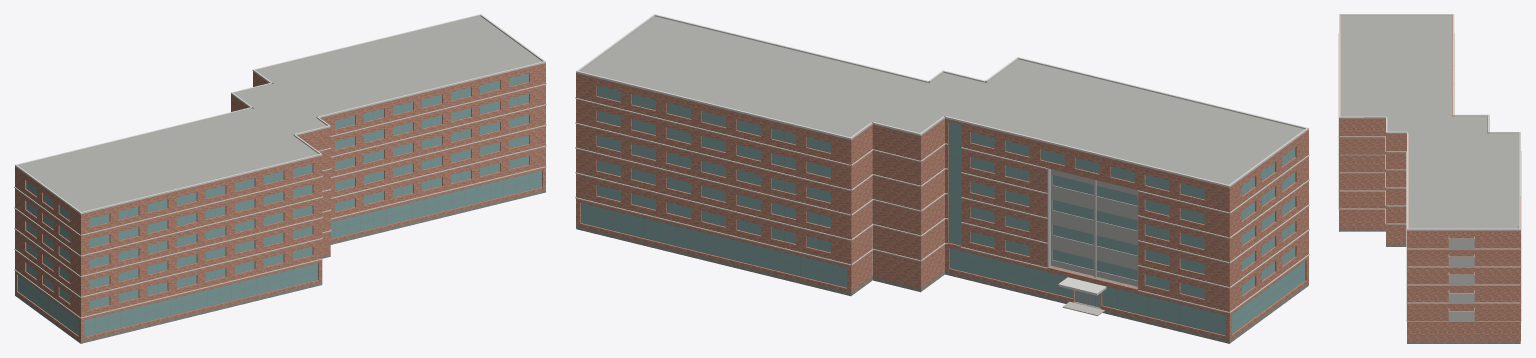
The picture shows the model from 3 angles, left to right: view 1: azimuth 30°, elevation 25°; view 2: azimuth 150°, elevation 25°; view 3: azimuth 270°, elevation 25°; orthographic projection. The views are drawn at different scales.
Visible parts, largest first — view 1: health__wall, health__roof, health__glass, health__band, health__frame, health__cap, health__plinth, health__foundation; view 2: health__wall, health__roof, health__glass, health__band, health__frame, health__concrete, health__cap, health__plinth, health__foundation; view 3: health__roof, health__wall, health__band, health__cap, health__concrete, health__plinth, health__foundation.
Boxes of the visible parts, x1=… form: health__wall: x1=15, y1=63, x2=545, y2=340; health__roof: x1=18, y1=16, x2=541, y2=211; health__glass: x1=18, y1=73, x2=541, y2=336; health__band: x1=14, y1=83, x2=546, y2=318; health__frame: x1=18, y1=73, x2=541, y2=336; health__cap: x1=15, y1=14, x2=545, y2=214; health__plinth: x1=15, y1=189, x2=545, y2=342; health__foundation: x1=15, y1=190, x2=545, y2=343; health__wall: x1=576, y1=73, x2=1308, y2=340; health__roof: x1=580, y1=16, x2=1304, y2=184; health__glass: x1=581, y1=86, x2=1304, y2=334; health__band: x1=575, y1=97, x2=1309, y2=313; health__frame: x1=581, y1=85, x2=1305, y2=335; health__concrete: x1=1047, y1=168, x2=1138, y2=289; health__cap: x1=576, y1=14, x2=1308, y2=294; health__plinth: x1=576, y1=223, x2=1308, y2=342; health__foundation: x1=576, y1=228, x2=1308, y2=343; health__roof: x1=1341, y1=15, x2=1518, y2=228; health__wall: x1=1339, y1=16, x2=1520, y2=341; health__band: x1=1338, y1=33, x2=1521, y2=321; health__cap: x1=1339, y1=14, x2=1520, y2=230; health__concrete: x1=1448, y1=236, x2=1474, y2=321; health__plinth: x1=1339, y1=229, x2=1520, y2=343; health__foundation: x1=1339, y1=229, x2=1520, y2=343.
Size of the model in its own units: 90.84 by 22.22 by 32.17.
Materials: 13 (4 with a texture image).
